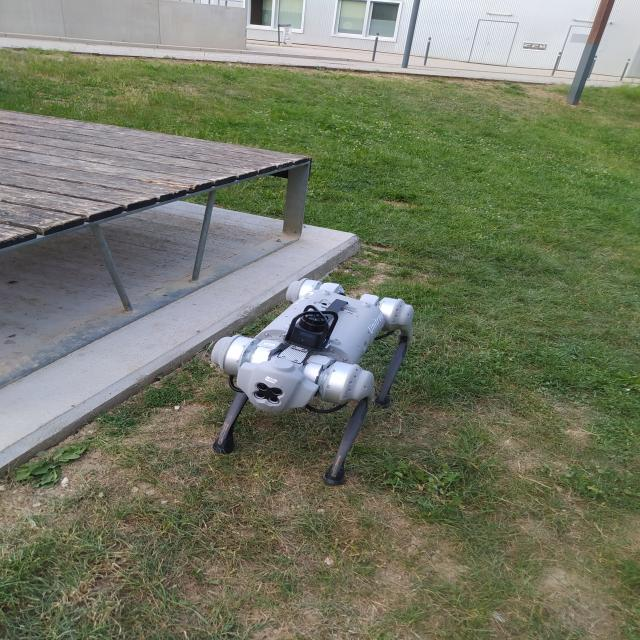unitree-go1-robot: (193, 268, 440, 495)
